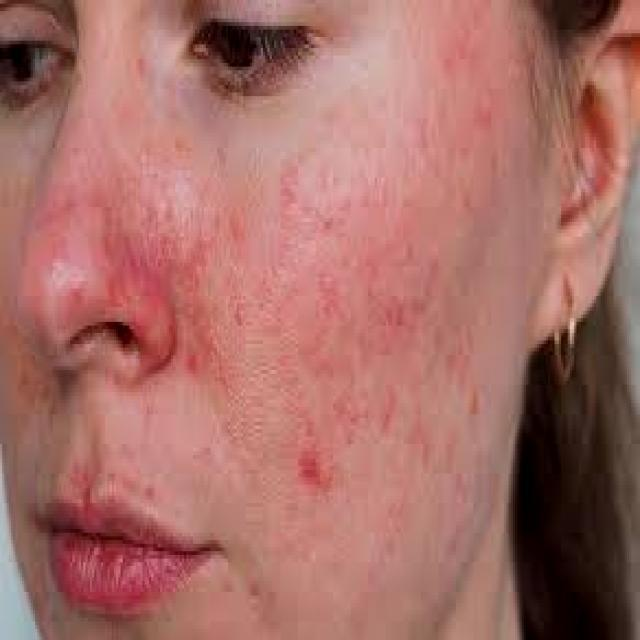Rosacea: (172, 20, 492, 483), (38, 134, 170, 328)
